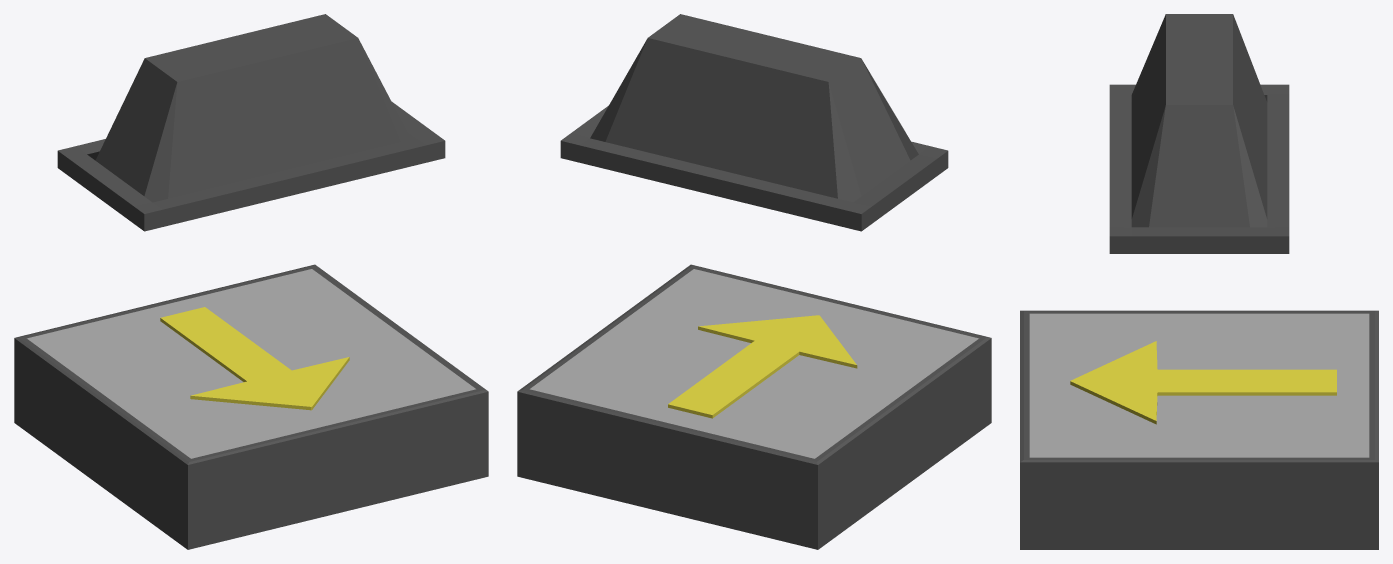
The model's file is FoodSendArea.glb.
3 views of the same model, side by side, from view 1: azimuth 30°, elevation 25°; view 2: azimuth 150°, elevation 25°; view 3: azimuth 270°, elevation 25° (orthographic). The views are drawn at different scales.
Visible parts, largest first — view 1: Cube.127; view 2: Cube.127; view 3: Cube.127.
Boxes of the visible parts, x1,y1,x2,y2 form: Cube.127: (14,14,488,549); Cube.127: (517,14,991,549); Cube.127: (1020,14,1378,549).
Bounding box in the file's own units: 4 × 5.1 × 4.
